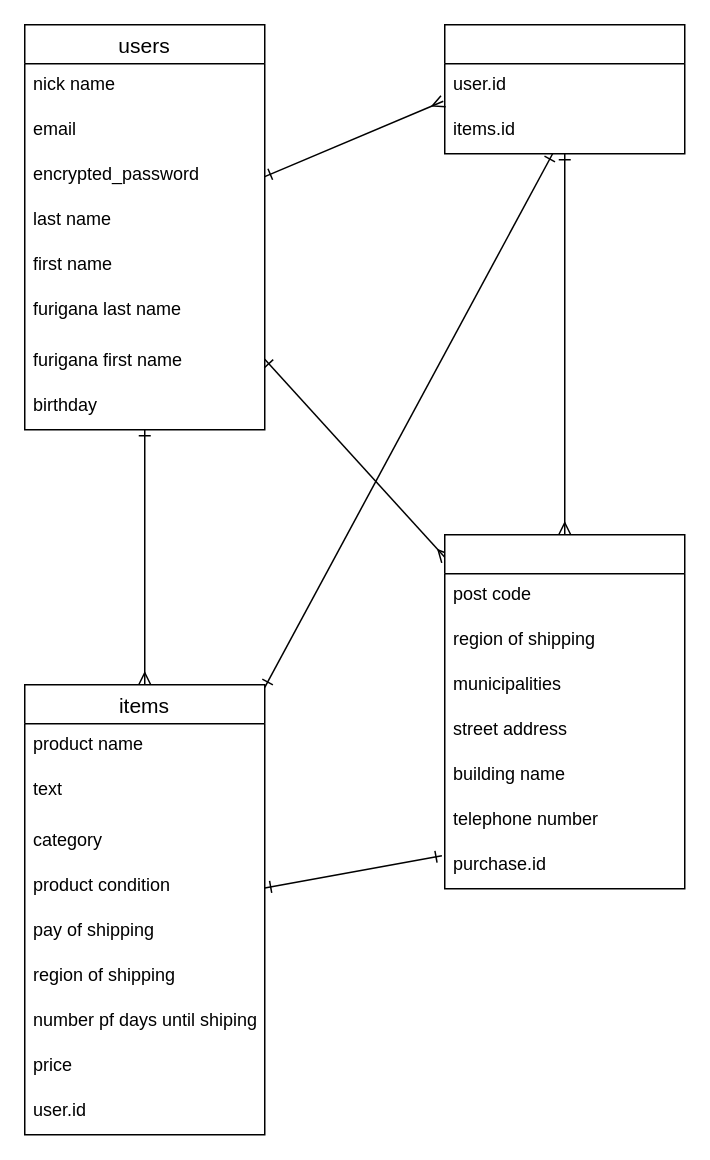
Image size: 710x1160. Some labels were removed from this diagram. Each missing label, with the box of its shape:
addresses: (443, 533, 685, 889)
purchases: (443, 23, 685, 154)
